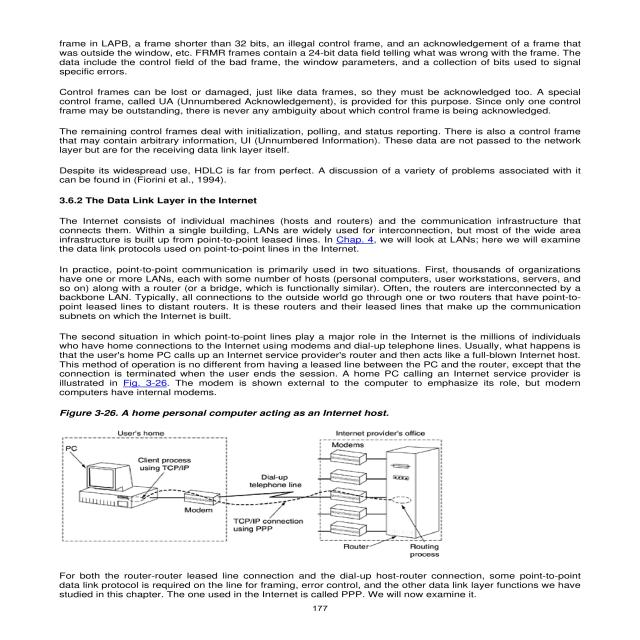diagram: (53, 404, 484, 564)
